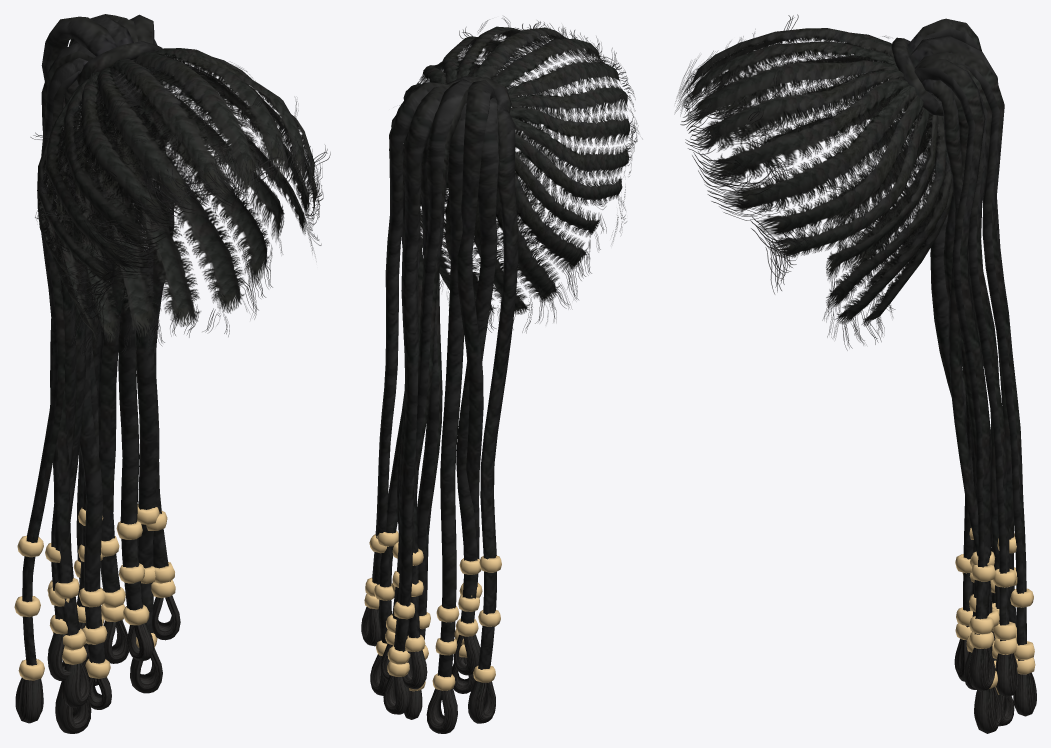
Rendered from braids.glb.
3 renders of one model, left to right at view 1: azimuth 30°, elevation 25°; view 2: azimuth 150°, elevation 25°; view 3: azimuth 270°, elevation 25°, orthographic. The views are drawn at different scales.
Visible parts, largest first — view 1: Object_3, Object_2; view 2: Object_3, Object_2; view 3: Object_3, Object_2.
Boxes of the visible parts, x1,y1,x2,y2 form: Object_3: (15, 14, 330, 733); Object_2: (14, 504, 175, 680); Object_3: (361, 16, 642, 733); Object_2: (364, 530, 501, 691); Object_3: (675, 14, 1036, 733); Object_2: (955, 528, 1035, 694).
Bounding box in the file's own units: 0.7891 × 2.09 × 0.9884.
Materials: 2 (1 with a texture image).
